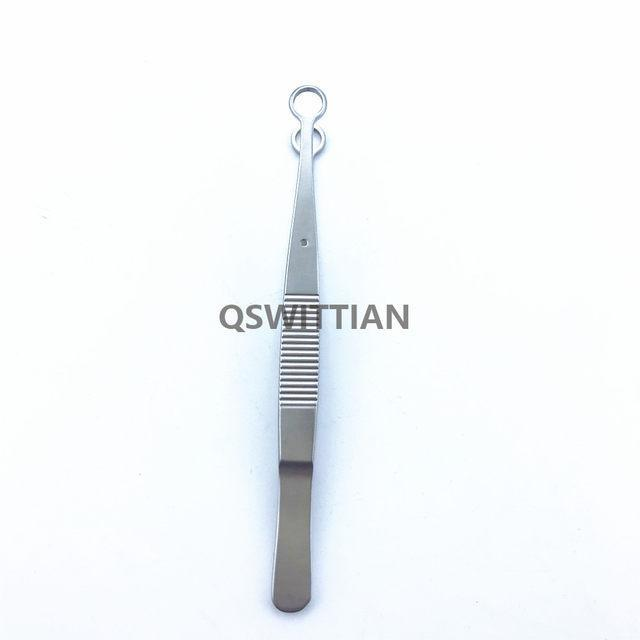Eye Intestinal Forceps: (266, 76, 335, 614)
